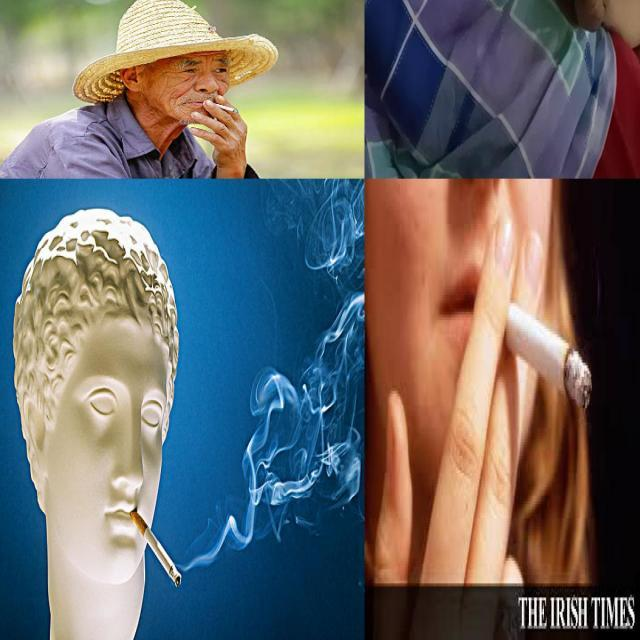cigarette: (498, 292, 592, 412), (129, 509, 183, 590), (208, 101, 240, 112)
